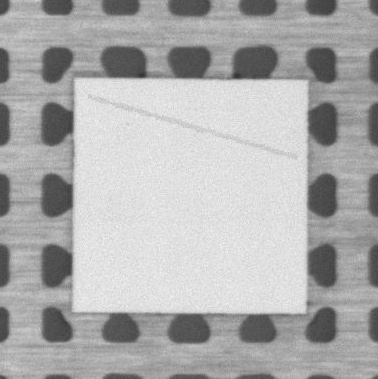DIE_CRACK: (90, 97, 295, 157)
